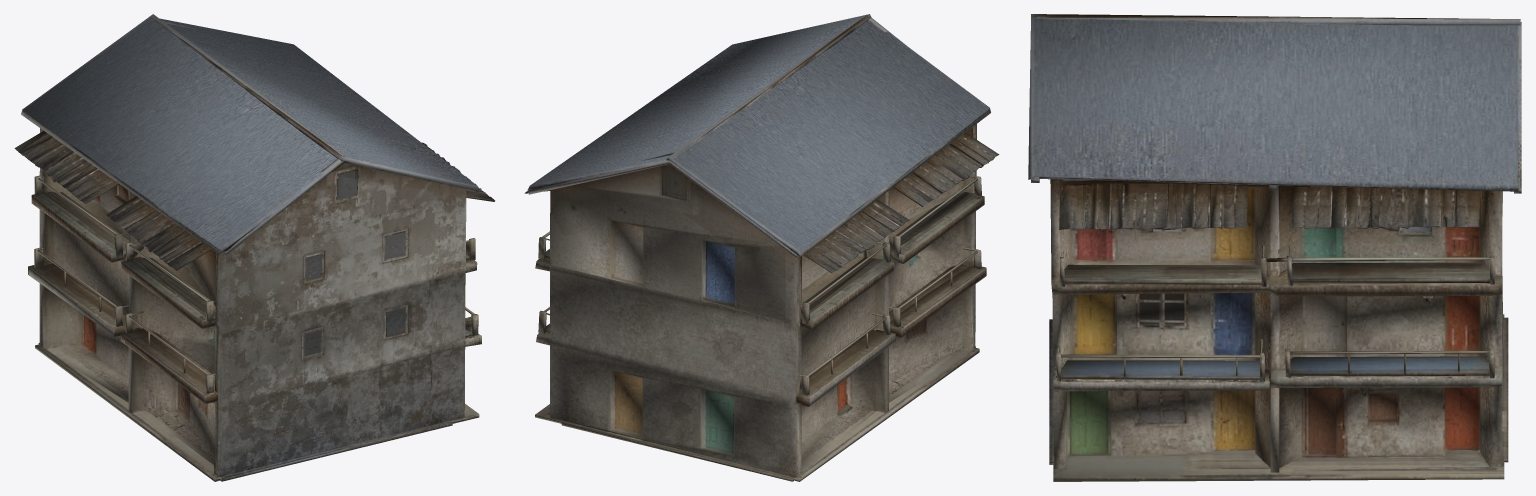
File: face-me-i-face-you+house+3d+model.glb
3 views of the same model, side by side, from view 1: azimuth 30°, elevation 25°; view 2: azimuth 150°, elevation 25°; view 3: azimuth 270°, elevation 25° (orthographic). The views are drawn at different scales.
Parts seen in each view (by area): view 1: tripo_node_e4f22cbb-e949-4d78-a7e7-8382bb8be66a; view 2: tripo_node_e4f22cbb-e949-4d78-a7e7-8382bb8be66a; view 3: tripo_node_e4f22cbb-e949-4d78-a7e7-8382bb8be66a.
Boxes of the visible parts, x1=… form: tripo_node_e4f22cbb-e949-4d78-a7e7-8382bb8be66a: x1=14, y1=14, x2=494, y2=481; tripo_node_e4f22cbb-e949-4d78-a7e7-8382bb8be66a: x1=524, y1=14, x2=999, y2=481; tripo_node_e4f22cbb-e949-4d78-a7e7-8382bb8be66a: x1=1028, y1=14, x2=1521, y2=481.
Bounding box in the file's own units: 0.9238 × 0.8457 × 0.998.
1 material, 1 textured.
